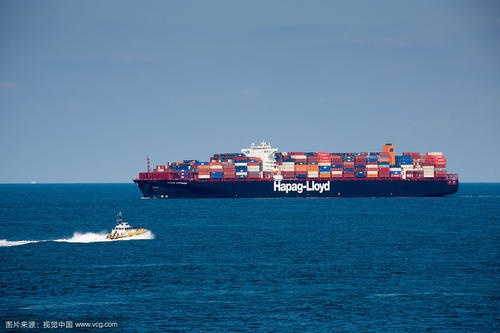Cargoship: (131, 135, 460, 201)
otherboat: (102, 214, 148, 243)
